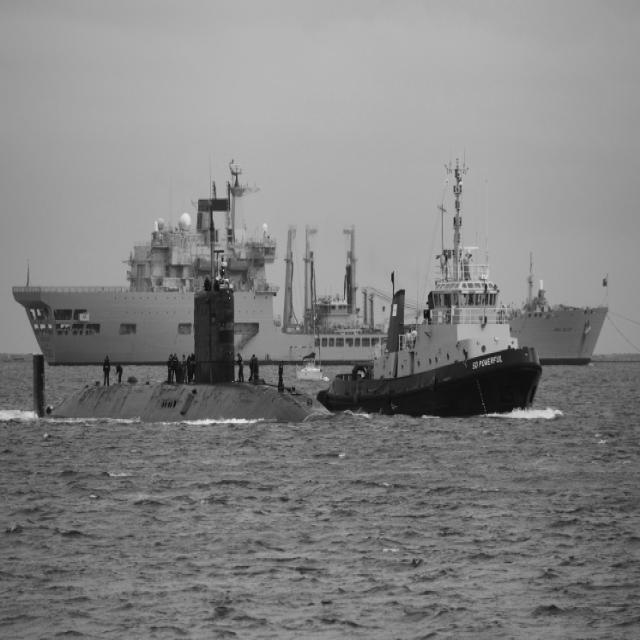submarine: (32, 288, 329, 425)
